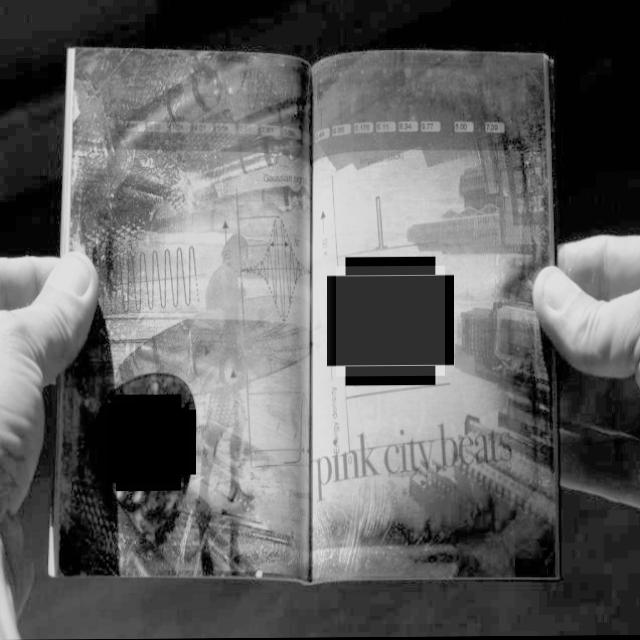qr_code: (336, 266, 445, 377), (108, 403, 189, 483)
